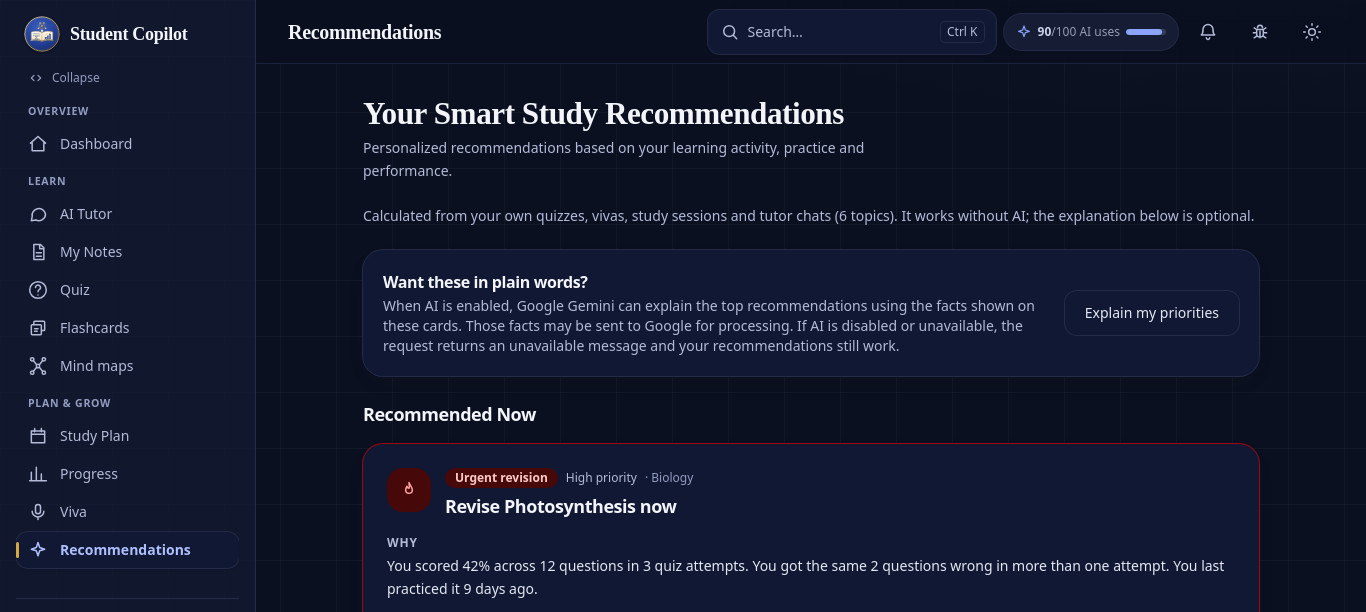
the optional AI explanation › a Mock explanation is labelled as such
Step 1. Click the button "Explain my priorities" → (1152, 313), box x1=1065 y1=291 x2=1239 y2=335
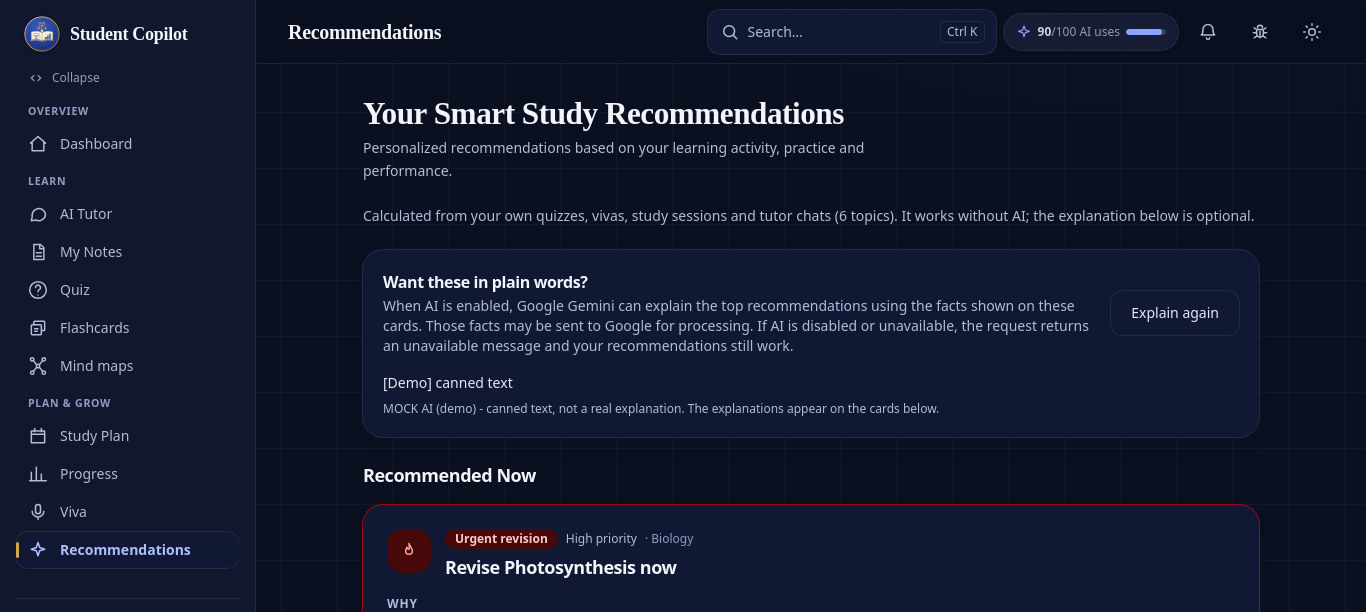
Expected: the text "MOCK AI (demo)" is shown, x1=383 y1=400 x2=685 y2=417
